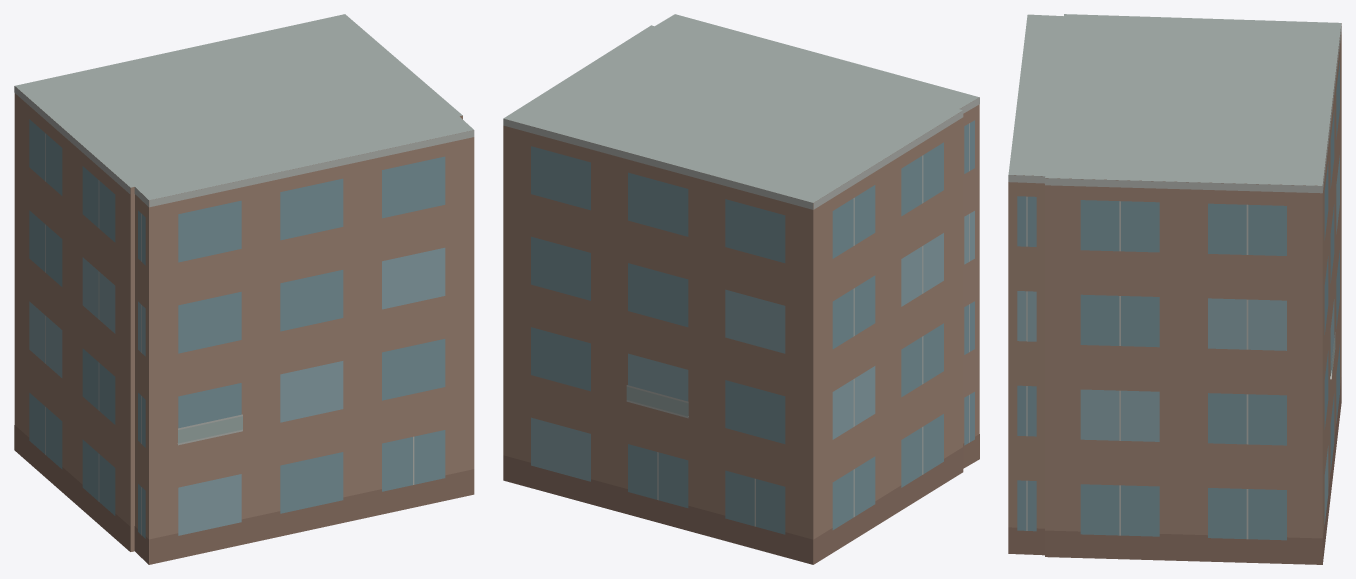
The model's file is survey-upis-32949780.glb.
The picture shows the model from 3 angles, left to right: view 1: azimuth 30°, elevation 25°; view 2: azimuth 150°, elevation 25°; view 3: azimuth 270°, elevation 25°; orthographic projection. The views are drawn at different scales.
Visible parts, largest first — view 1: survey-upis-32949780.tmp; view 2: survey-upis-32949780.tmp; view 3: survey-upis-32949780.tmp.
Boxes of the visible parts, x1=… form: survey-upis-32949780.tmp: x1=14, y1=14, x2=474, y2=564; survey-upis-32949780.tmp: x1=503, y1=14, x2=979, y2=564; survey-upis-32949780.tmp: x1=1008, y1=14, x2=1341, y2=564.
Bounding box in the file's own units: 12.33 × 12.66 × 10.1.
